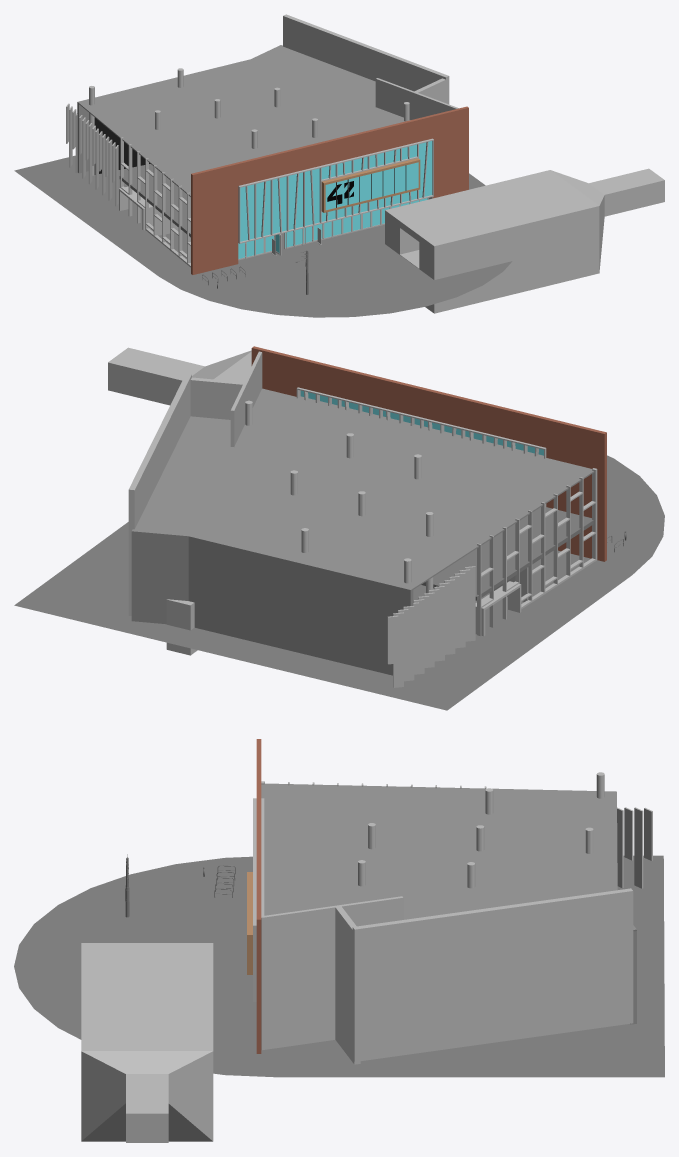
Rendered from 42WOB_v2.glb.
The picture shows the model from 3 angles, top to bottom: view 1: azimuth 30°, elevation 25°; view 2: azimuth 150°, elevation 25°; view 3: azimuth 270°, elevation 25°; orthographic projection. The views are drawn at different scales.
Parts seen in each view (by area): view 1: All; view 2: All; view 3: All.
Part boxes in pixels (x1=…): All: x1=14, y1=14, x2=664, y2=317; All: x1=14, y1=346, x2=664, y2=710; All: x1=14, y1=739, x2=664, y2=1142.
Size of the model in its own units: 48 by 13.7 by 44.82.
